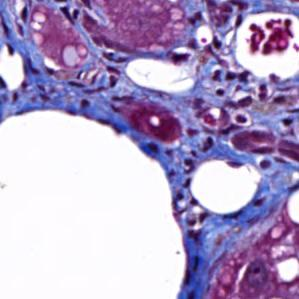inflammation: (223, 65, 254, 86), (229, 109, 254, 130)
